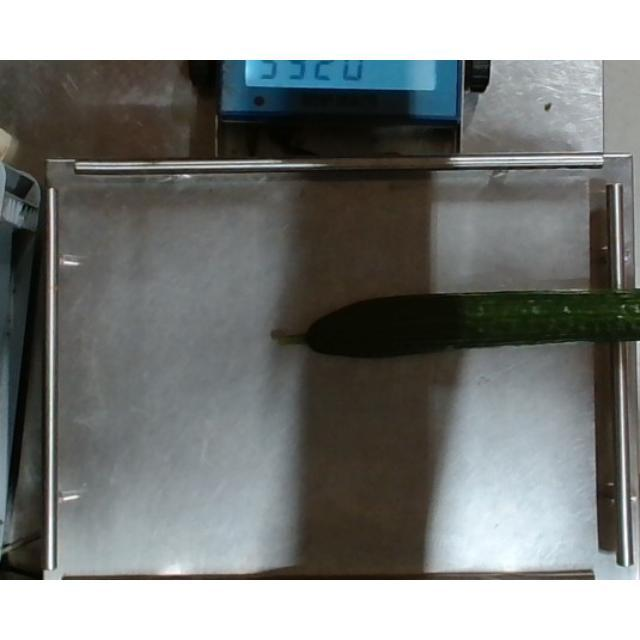cucumber: (270, 288, 640, 359)
